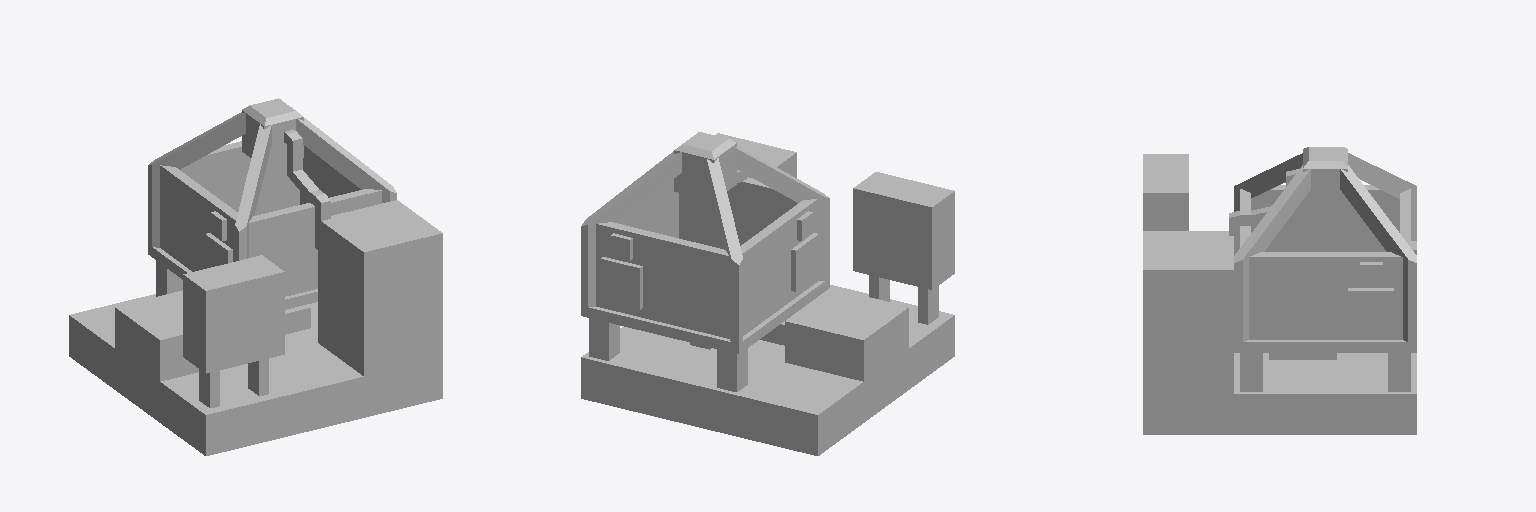
The model's file is squeezer_mirrored.obj.
The picture shows the model from 3 angles: view 1: azimuth 30°, elevation 25°; view 2: azimuth 150°, elevation 25°; view 3: azimuth 270°, elevation 25°; orthographic projection.
Visible parts, largest first — view 1: base; view 2: base; view 3: base.
Part boxes in pixels (left/top/right/bottom): base: left=69, top=98, right=442, bottom=455; base: left=581, top=132, right=954, bottom=455; base: left=1143, top=147, right=1416, bottom=434.
Bounding box in the file's own units: 3 × 2.94 × 3.